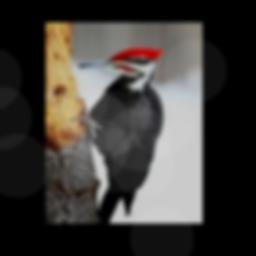Woodpecker: (70, 48, 162, 222)
